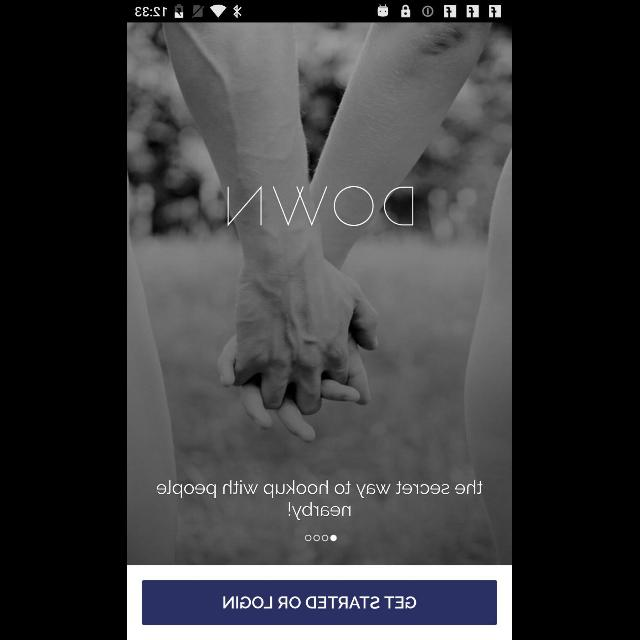backgroundimage: (128, 23, 512, 565)
pageindicator: (305, 534, 337, 542)
text: (156, 480, 484, 520), (228, 185, 414, 227)
textbutton: (142, 580, 498, 626)
uppertaskbar: (128, 1, 512, 23)
